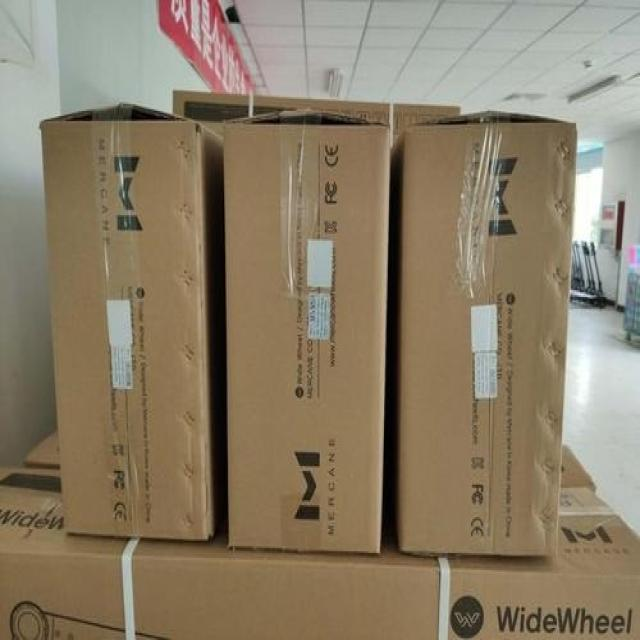box: (0, 466, 639, 638), (389, 111, 577, 559), (42, 103, 228, 540), (224, 108, 390, 556), (172, 91, 460, 149), (559, 443, 596, 488), (23, 426, 60, 468)
